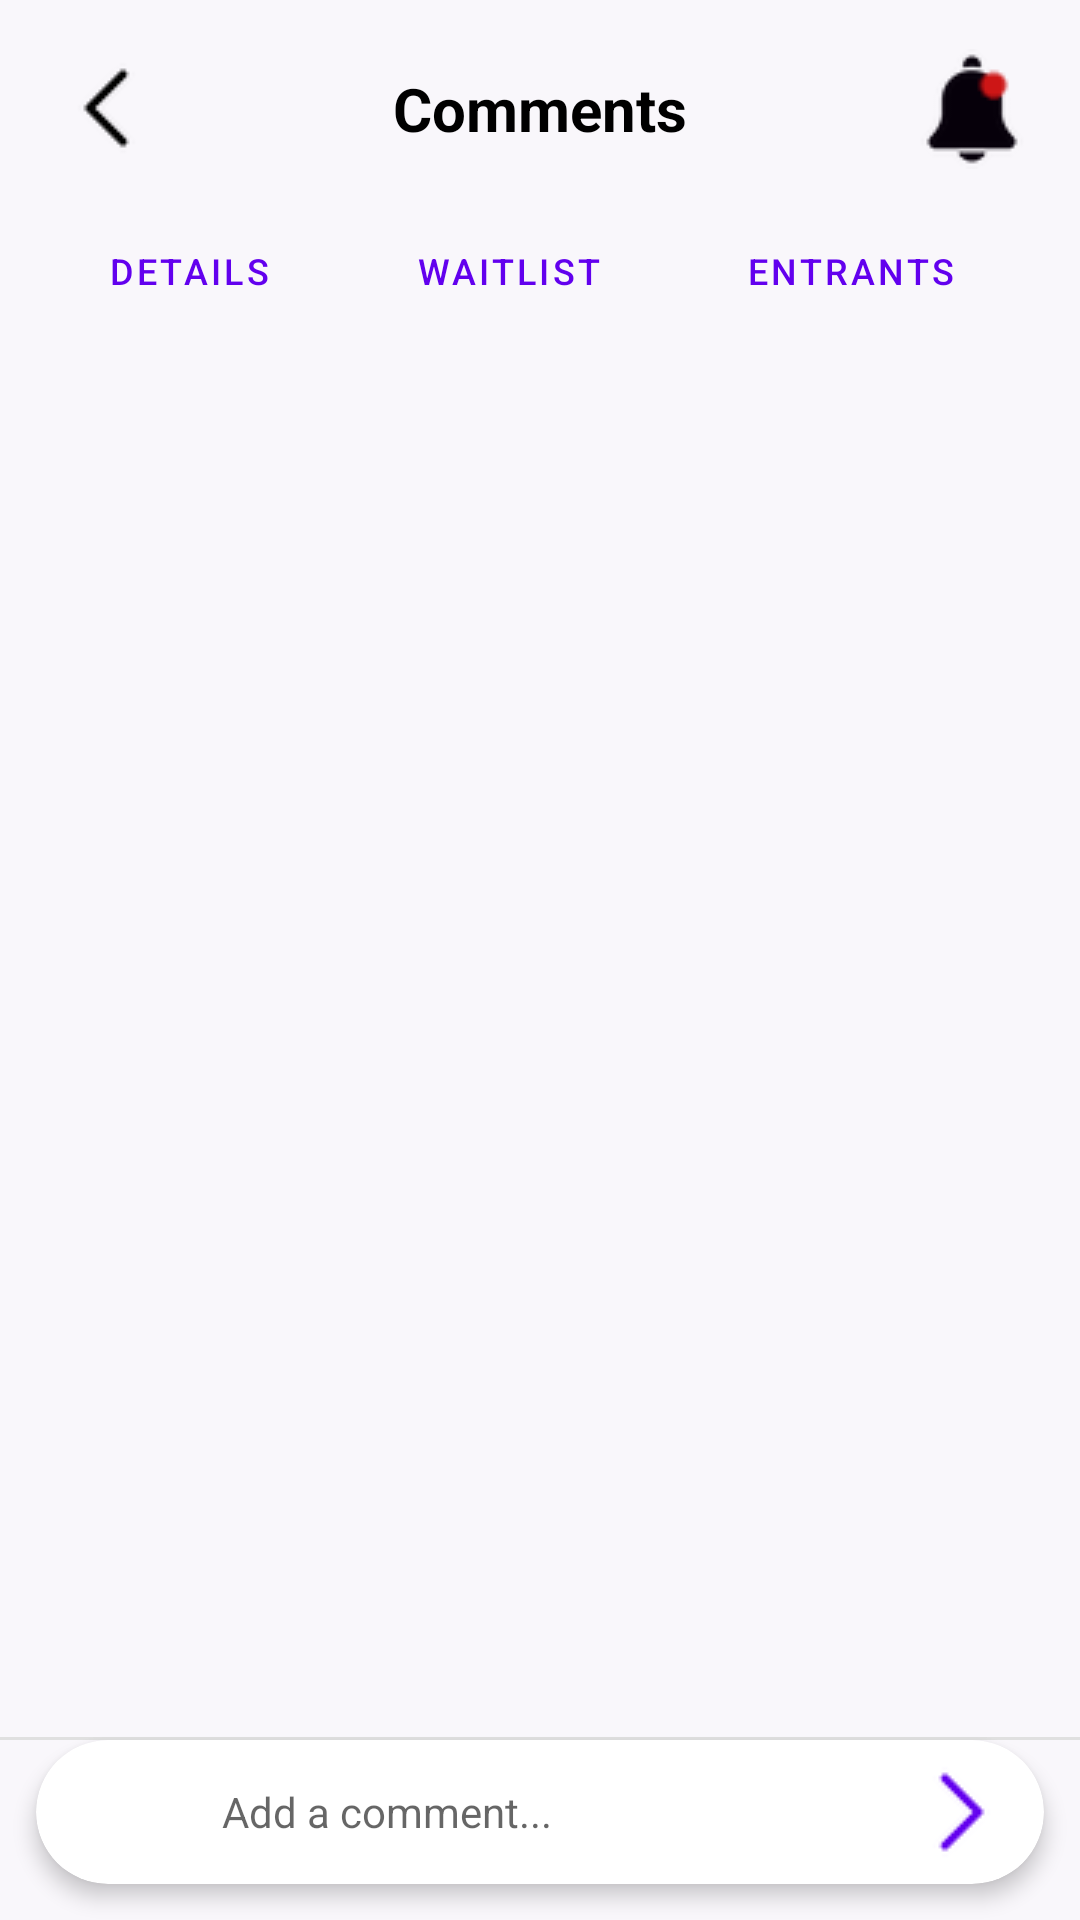

Icons on this 1080 x 1920 Android screen, each with the point to tap as [x,y]:
left arrow: [106,108]
notification popular: [972,109]
right arrow: [961,1812]
